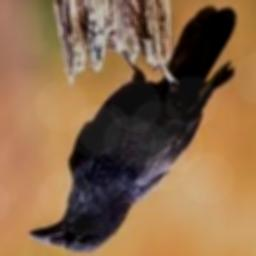Crow: (28, 6, 237, 252)
